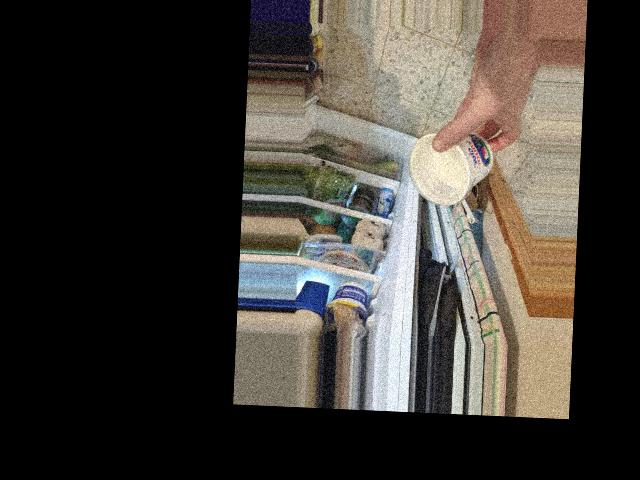cotage: (412, 126, 498, 207)
